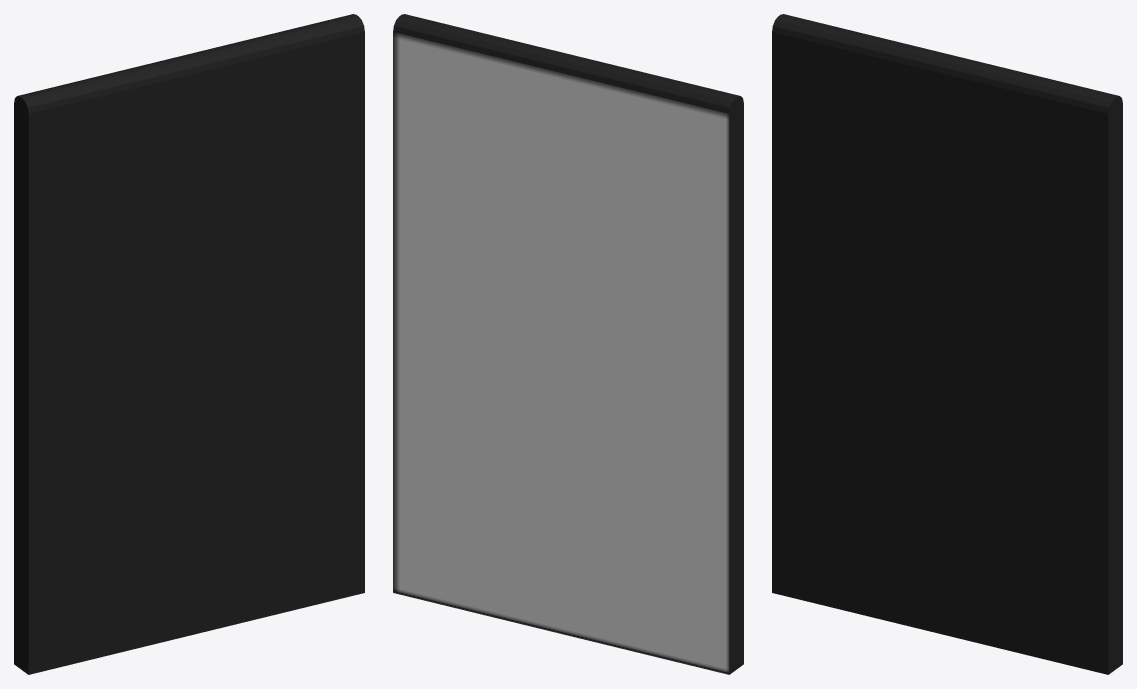
File: Chance(1).fbx
3 renders of one model, left to right at view 1: azimuth 30°, elevation 25°; view 2: azimuth 150°, elevation 25°; view 3: azimuth 330°, elevation 25°, orthographic.
Parts seen in each view (by area): view 1: Chance.001; view 2: Chance.001; view 3: Chance.001.
Boxes of the visible parts, x1,y1,x2,y2 form: Chance.001: [14, 14, 364, 674]; Chance.001: [393, 14, 743, 674]; Chance.001: [772, 14, 1122, 674].
Size of the model in its own units: 16 by 26 by 1.2.
